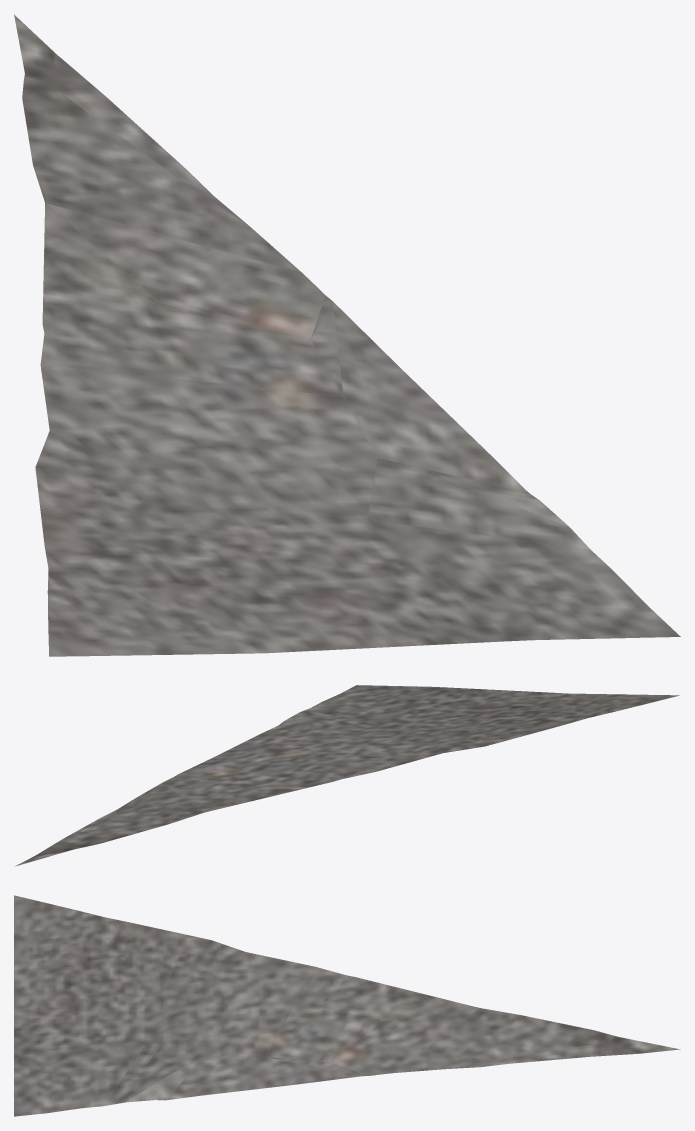
The picture shows the model from 3 angles, top to bottom: view 1: azimuth 30°, elevation 25°; view 2: azimuth 150°, elevation 25°; view 3: azimuth 270°, elevation 25°; orthographic projection. The views are drawn at different scales.
Bounding box in the file's own units: 0.6056 × 0.1231 × 1.11.
Materials: 1 (1 with a texture image).
